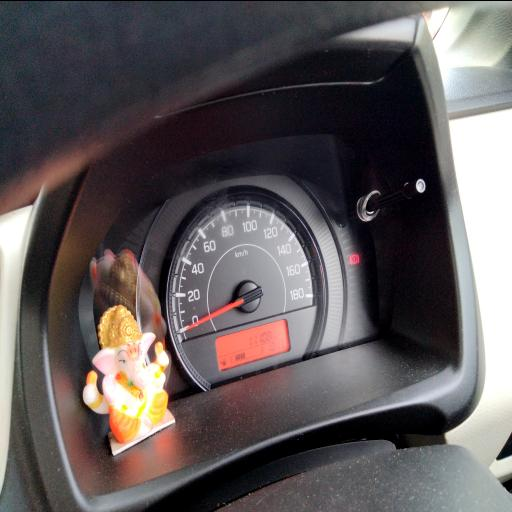brake_system_fault: (350, 252, 360, 264)
